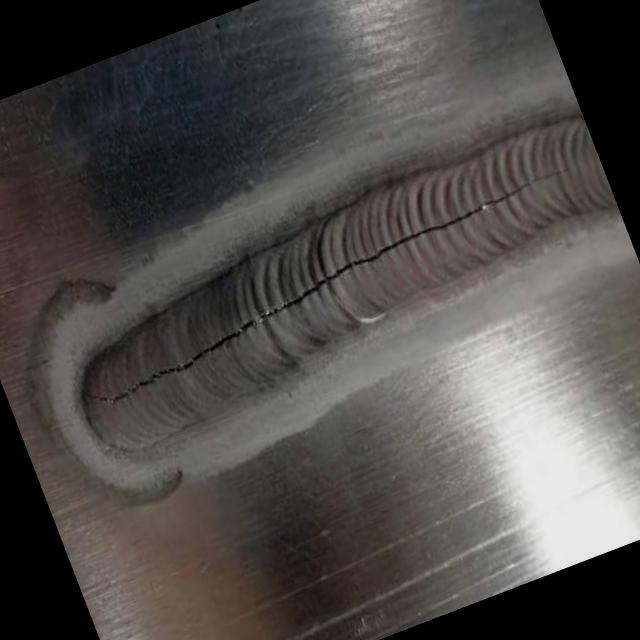defect: (83, 166, 574, 408)
